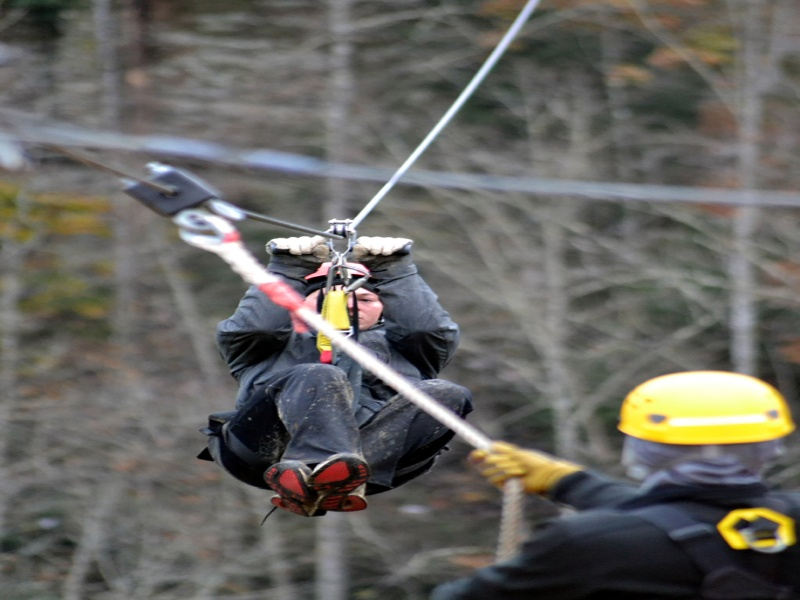Baret: (618, 369, 795, 446)
